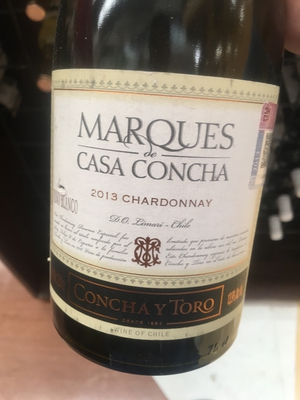marques de casa concha chardonnay: (41, 5, 287, 373)
